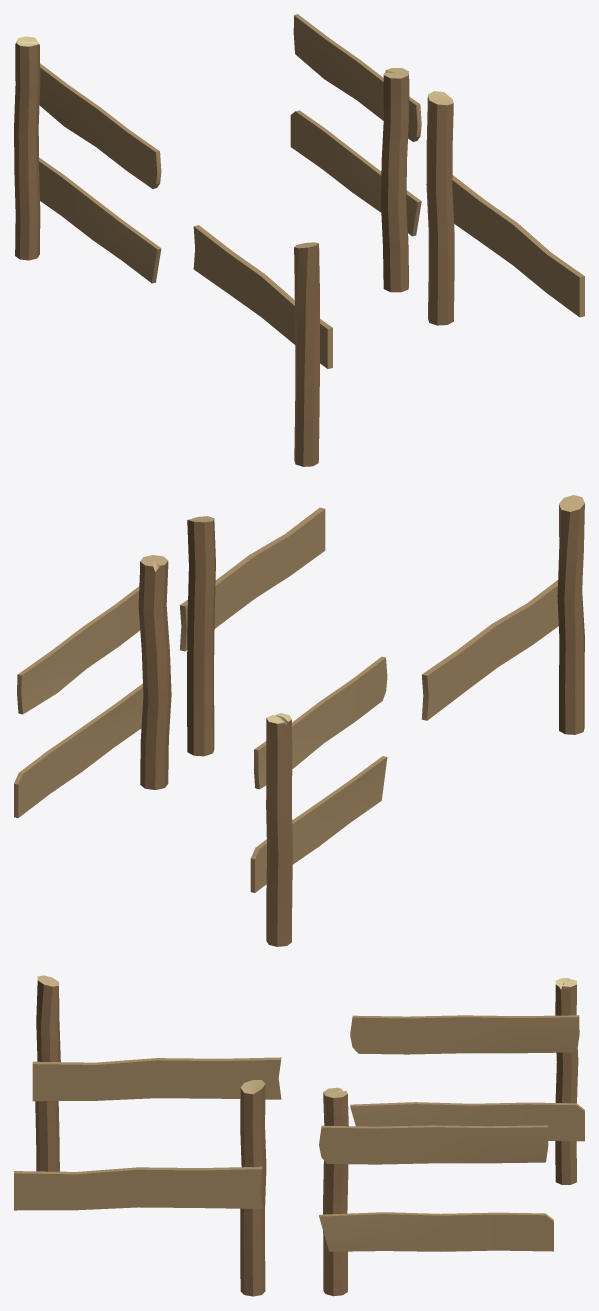
File: atoll_Fence01.fbx
The picture shows the model from 3 angles, top to bottom: view 1: azimuth 30°, elevation 25°; view 2: azimuth 150°, elevation 25°; view 3: azimuth 270°, elevation 25°; orthographic projection. The views are drawn at different scales.
Visible parts, largest first — view 1: Post3, Plank4, Post4, Post2, Post1, Plank1, Plank3, Plank2, Plank5, Plank6; view 2: Post4, Post3, Plank3, Post2, Post1, Plank6, Plank4, Plank5, Plank1, Plank2; view 3: Plank4, Plank3, Plank6, Plank1, Plank5, Plank2, Post3, Post2, Post4, Post1.
Boxes of the visible parts, x1,y1,x2,y2 form: Post3: (426,91,454,325); Plank4: (452,175,584,317); Post4: (381,68,409,292); Post2: (294,242,319,466); Post1: (14,36,40,260); Plank1: (39,63,161,188); Plank3: (193,225,332,368); Plank2: (39,157,161,283); Plank5: (293,14,421,141); Plank6: (290,110,421,236); Post4: (138,555,171,789); Post3: (187,516,215,756); Plank3: (421,580,558,720); Post2: (557,495,584,734); Post1: (266,713,292,946); Plank6: (14,683,143,817); Plank4: (180,507,325,651); Plank5: (17,586,140,714); Plank1: (253,656,387,789); Plank2: (250,756,387,892); Plank4: (14,1166,262,1210); Plank3: (32,1057,281,1101); Plank6: (319,1212,553,1251); Plank1: (350,1015,579,1054); Plank5: (319,1125,548,1164); Plank2: (350,1102,584,1141); Post3: (240,1080,266,1296); Post2: (35,975,60,1171); Post4: (323,1087,348,1296); Post1: (555,978,578,1184).
Bounding box in the file's own units: 365 × 288 × 716.
